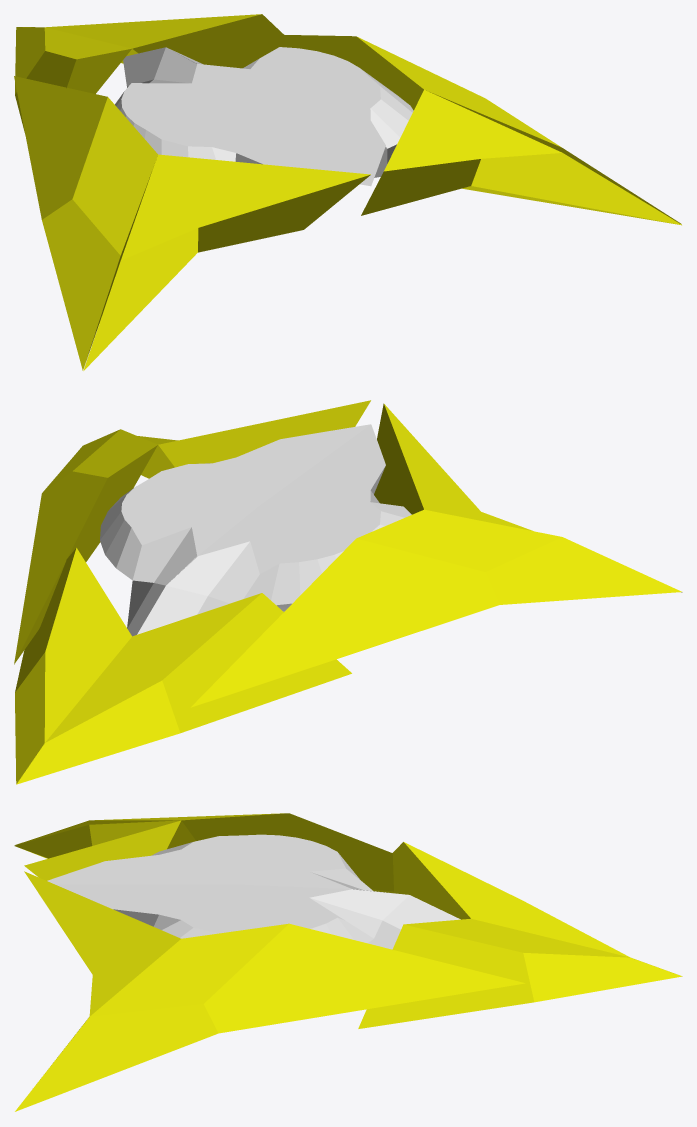
File: Sheep.fbx
The picture shows the model from 3 angles, top to bottom: view 1: azimuth 30°, elevation 25°; view 2: azimuth 150°, elevation 25°; view 3: azimuth 270°, elevation 25°; orthographic projection. The views are drawn at different scales.
Visible parts, largest first — view 1: Cube.001, Circle, Cube; view 2: Cube.001, Circle, Cube; view 3: Cube.001, Circle, Cube.
Part boxes in pixels (x1=…): Cube.001: x1=14, y1=34, x2=681, y2=370; Circle: x1=115, y1=47, x2=413, y2=186; Cube: x1=15, y1=14, x2=285, y2=132; Cube.001: x1=14, y1=400, x2=682, y2=707; Circle: x1=100, y1=424, x2=411, y2=636; Cube: x1=15, y1=548, x2=351, y2=784; Cube.001: x1=14, y1=813, x2=525, y2=1111; Circle: x1=47, y1=834, x2=460, y2=949; Cube: x1=358, y1=842, x2=682, y2=1028.
Size of the model in its own units: 646 by 125 by 684.
